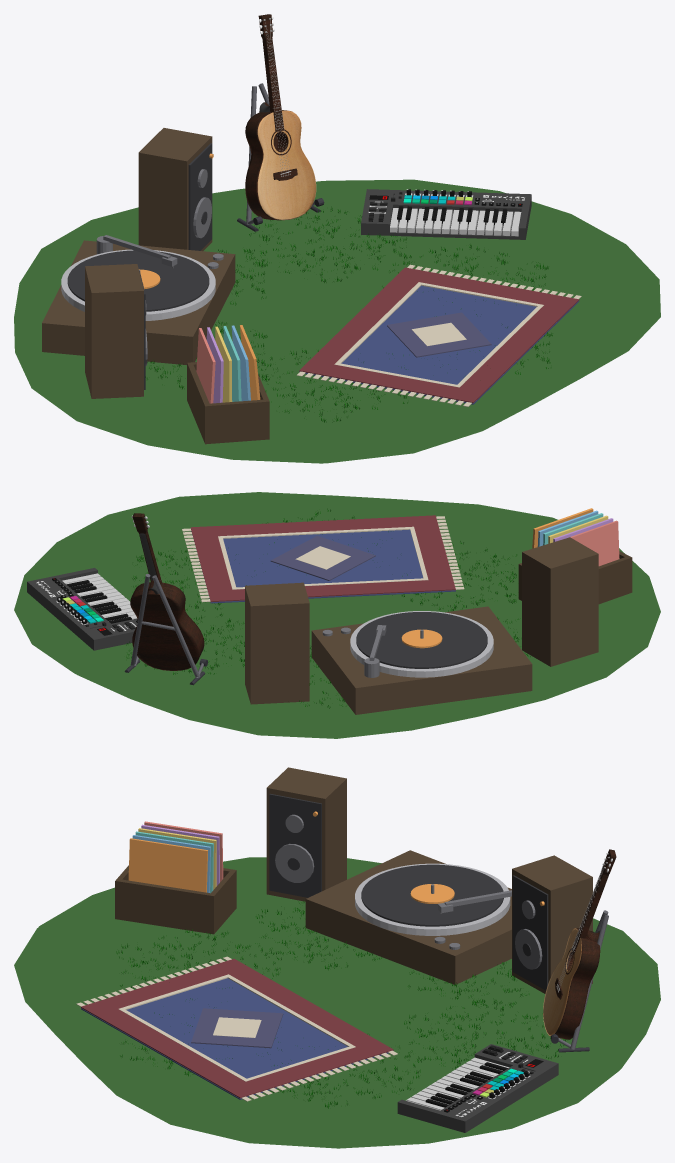
Rendered from Isle Music.glb.
3 views of the same model, one above another, from view 1: azimuth 30°, elevation 25°; view 2: azimuth 150°, elevation 25°; view 3: azimuth 270°, elevation 25° (orthographic). The views are drawn at different scales.
Visible parts, largest first — view 1: MI_Island, HexTile_Master, Rug_Field, MI_SP_L_Cabinet, Guitar, MI_TT_Plinth, MI_SP_R_Cabinet, default, MI_TT_Record, Rug_Border_S, Rug_Border_N, Object002 (+18 smaller); view 2: HexTile_Master, MI_Island, MI_TT_Plinth, MI_SP_L_Cabinet, MI_SP_R_Cabinet, Rug_Field, MI_TT_Record, Guitar, default, Rug_Border_S, Rug_Border_N, Rug_Medallion_Outer (+18 smaller); view 3: HexTile_Master, MI_Island, MI_TT_Plinth, Rug_Field, MI_TT_Record, Guitar, MI_SP_L_Cabinet, MI_SP_R_Cabinet, default, MI_SP_L_Baffle, MI_CR_Wall_F, MI_CR_Sleeve_0 (+21 smaller).
Boxes of the visible parts, bbox=[...] form: MI_Island: bbox=[14, 180, 655, 463]; HexTile_Master: bbox=[19, 179, 660, 463]; Rug_Field: bbox=[299, 285, 579, 404]; MI_SP_L_Cabinet: bbox=[85, 264, 143, 398]; Guitar: bbox=[245, 14, 316, 220]; MI_TT_Plinth: bbox=[42, 240, 235, 364]; MI_SP_R_Cabinet: bbox=[138, 128, 212, 251]; default: bbox=[361, 189, 531, 239]; MI_TT_Record: bbox=[67, 250, 209, 311]; Rug_Border_S: bbox=[449, 295, 579, 403]; Rug_Border_N: bbox=[299, 267, 428, 375]; Object002: bbox=[390, 208, 521, 236]; HexTile_Master: bbox=[14, 492, 657, 737]; MI_Island: bbox=[23, 493, 660, 738]; MI_TT_Plinth: bbox=[311, 606, 532, 714]; MI_SP_L_Cabinet: bbox=[522, 537, 598, 666]; MI_SP_R_Cabinet: bbox=[245, 582, 309, 704]; Rug_Field: bbox=[191, 529, 455, 603]; MI_TT_Record: bbox=[356, 612, 487, 668]; Guitar: bbox=[130, 513, 204, 670]; default: bbox=[27, 568, 137, 650]; Rug_Border_S: bbox=[190, 515, 438, 537]; Rug_Border_N: bbox=[208, 579, 455, 602]; Rug_Medallion_Outer: bbox=[270, 536, 375, 580]; HexTile_Master: bbox=[14, 859, 658, 1148]; MI_Island: bbox=[16, 857, 660, 1146]; MI_TT_Plinth: bbox=[305, 850, 511, 984]; Rug_Field: bbox=[81, 978, 393, 1099]; MI_TT_Record: bbox=[361, 864, 503, 926]; Guitar: bbox=[543, 849, 616, 1039]; MI_SP_L_Cabinet: bbox=[266, 767, 346, 901]; MI_SP_R_Cabinet: bbox=[512, 855, 592, 993]; default: bbox=[397, 1044, 558, 1132]; MI_SP_L_Baffle: bbox=[269, 793, 321, 897]; MI_CR_Wall_F: bbox=[115, 879, 215, 929]; MI_CR_Sleeve_0: bbox=[128, 838, 208, 892].
Size of the model in its own units: 7.53 by 2.29 by 7.06.
42 materials, 3 textured.
